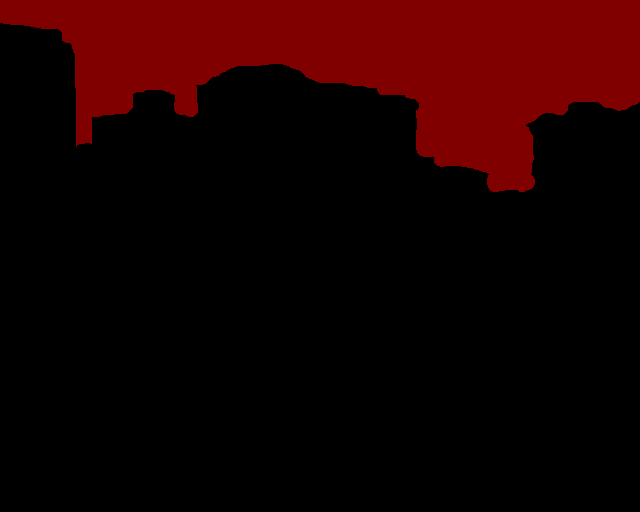Sky: (1, 1, 639, 192)
